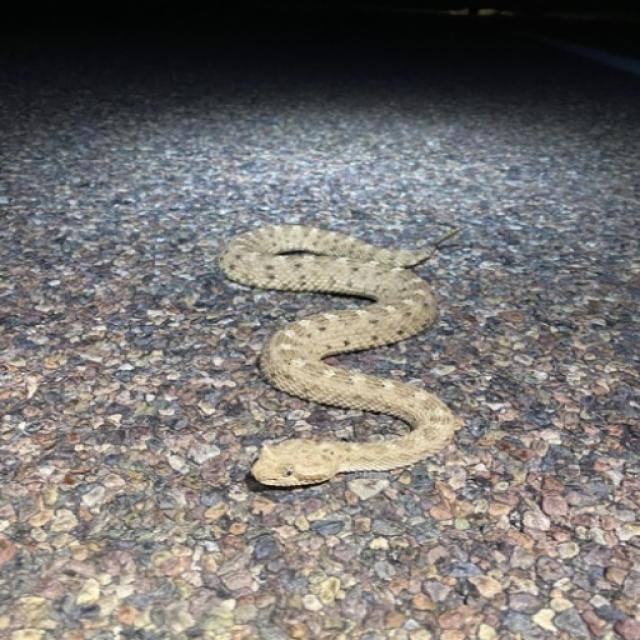snake: (212, 205, 474, 508)
